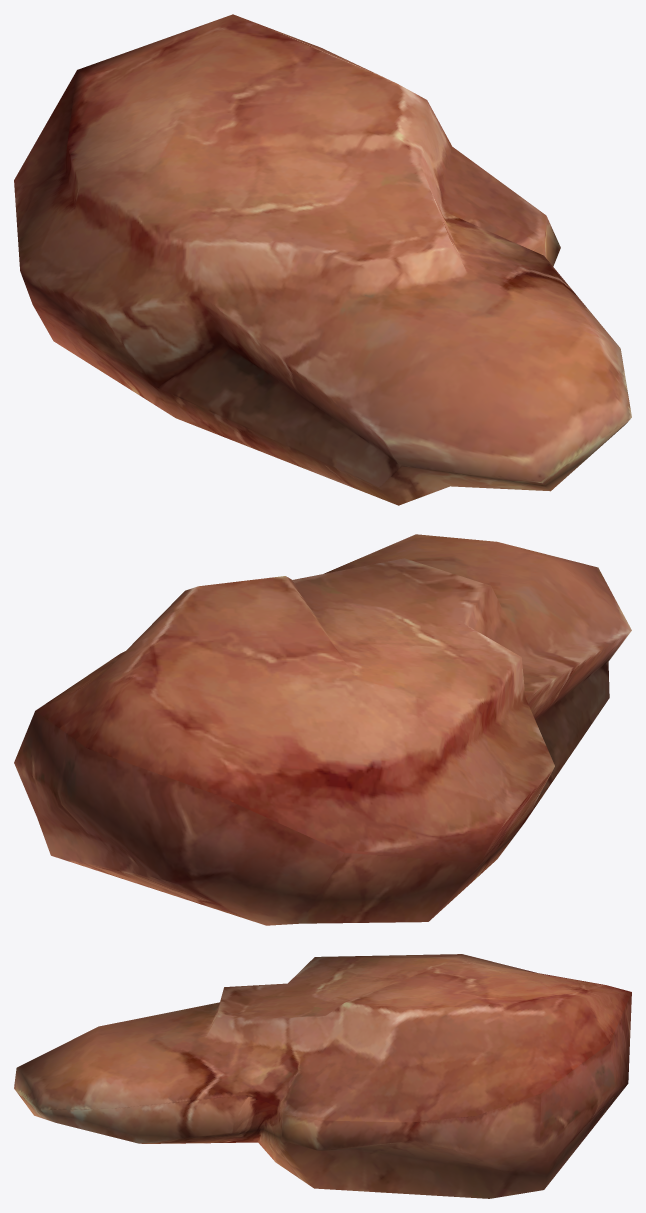
File: kor_vod_rock_02.glb
3 views of the same model, one above another, from view 1: azimuth 30°, elevation 25°; view 2: azimuth 150°, elevation 25°; view 3: azimuth 270°, elevation 25° (orthographic). The views are drawn at different scales.
Parts seen in each view (by area): view 1: all_item_camp_fire_pit_sacrificial; view 2: all_item_camp_fire_pit_sacrificial; view 3: all_item_camp_fire_pit_sacrificial.
Boxes of the visible parts, x1,y1,x2,y2 form: all_item_camp_fire_pit_sacrificial: [14, 14, 631, 505]; all_item_camp_fire_pit_sacrificial: [14, 534, 631, 925]; all_item_camp_fire_pit_sacrificial: [14, 954, 631, 1198].
Size of the model in its own units: 0.2946 by 0.1541 by 0.4784.
1 material, 1 textured.
